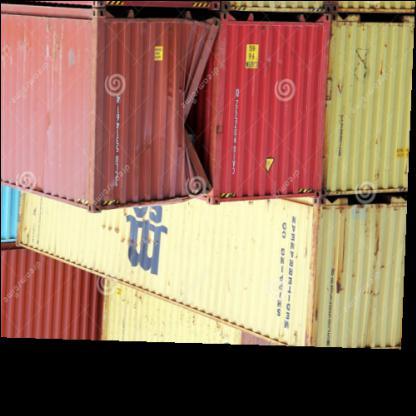Damage: (164, 47, 224, 185)
